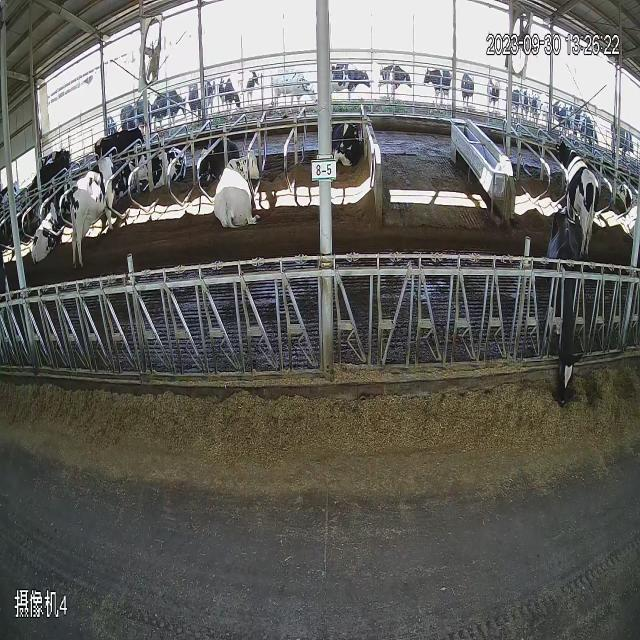feeding: (547, 211, 617, 413)
lying down: (216, 142, 261, 260), (33, 190, 58, 270)
standing: (542, 127, 612, 246), (66, 145, 132, 255), (326, 50, 381, 124), (268, 58, 316, 116), (424, 59, 459, 130), (380, 50, 416, 119), (150, 87, 187, 132), (460, 59, 483, 122), (215, 66, 242, 117), (482, 62, 504, 120), (244, 56, 262, 118), (509, 80, 523, 132), (530, 79, 544, 131), (118, 98, 136, 134)
